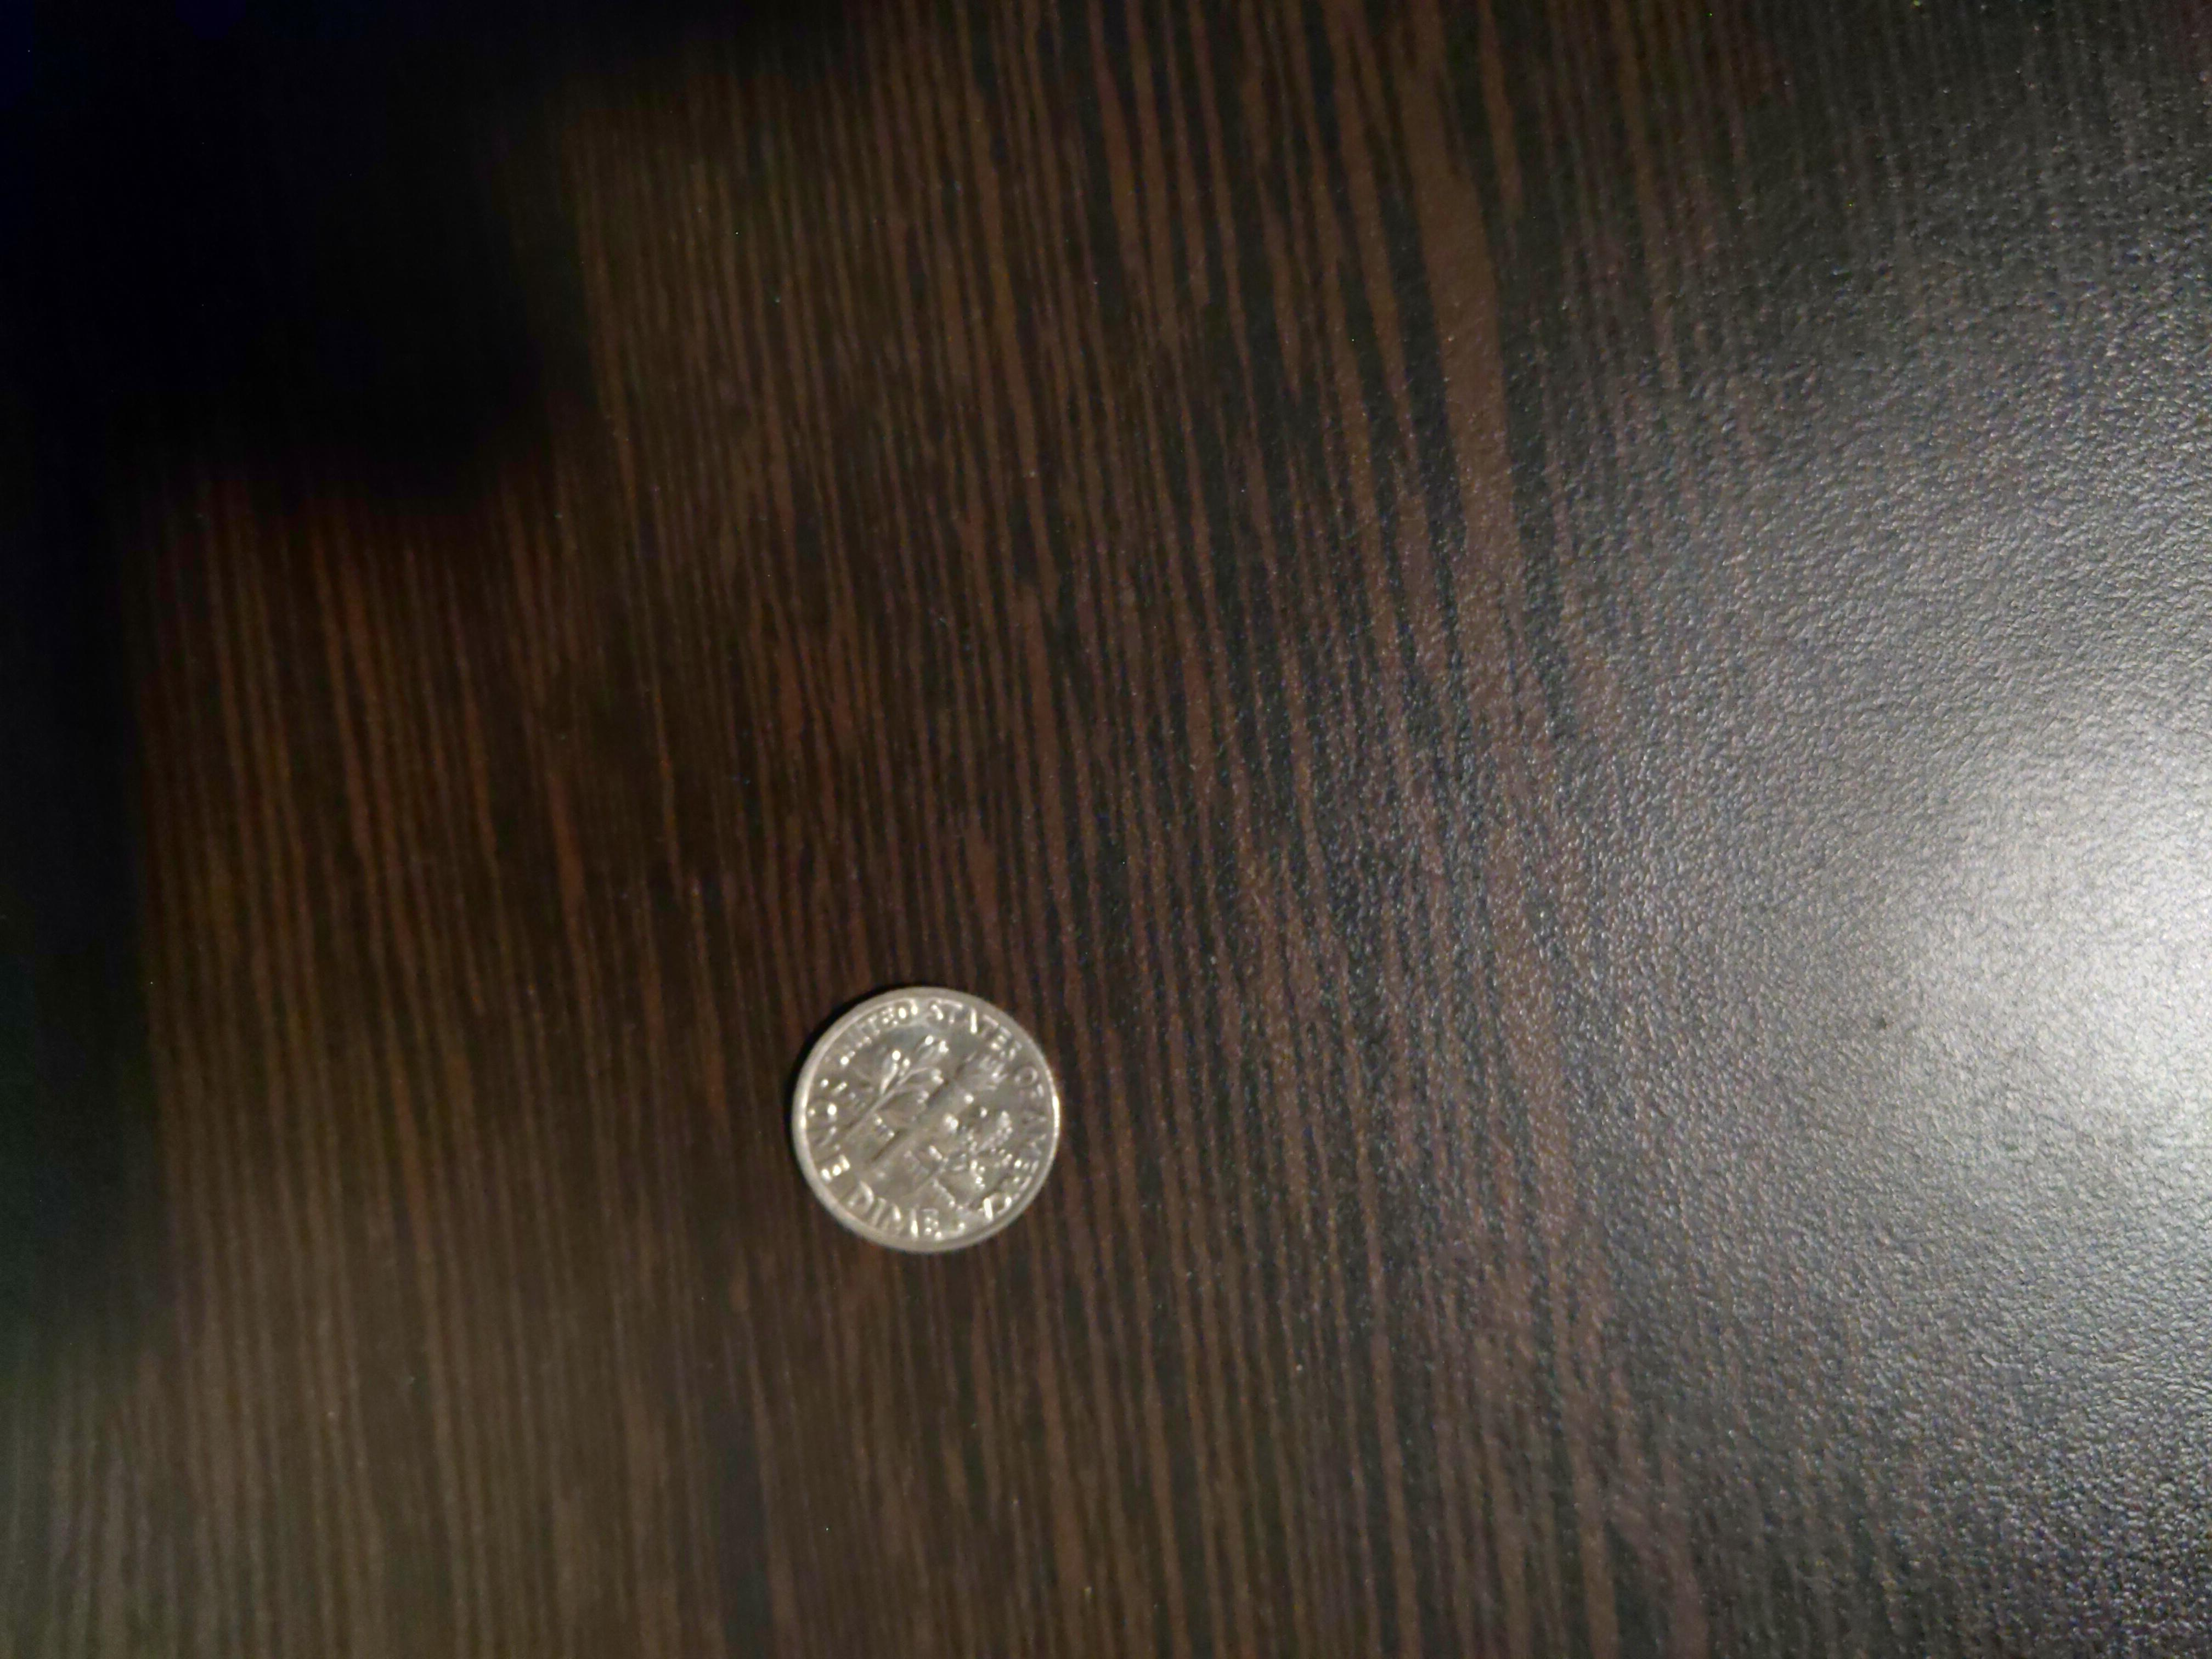Dime: (789, 974, 1068, 1256)
